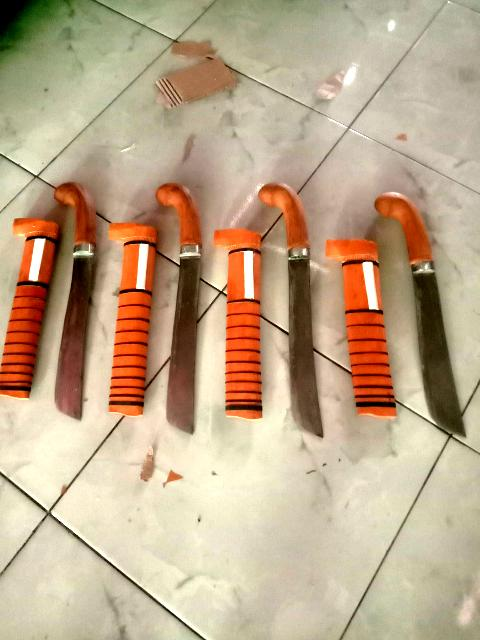long knife: (373, 190, 467, 438), (257, 182, 325, 438), (156, 182, 204, 434), (51, 182, 97, 422)
